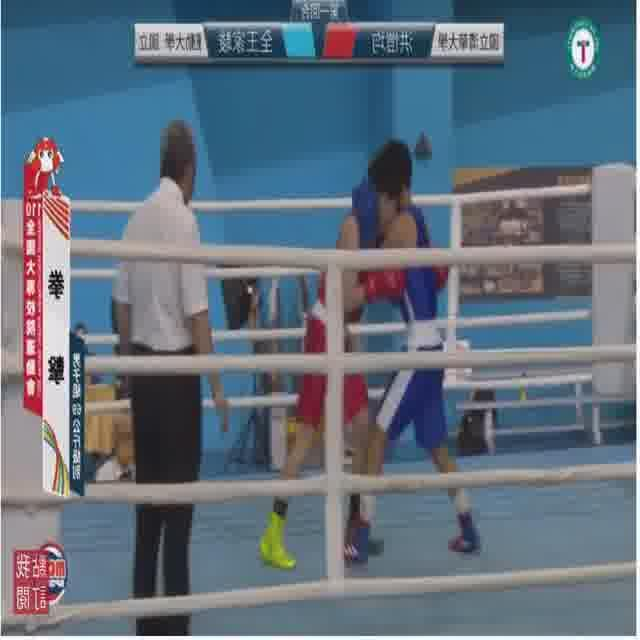blue-player: (342, 135, 484, 565)
red-player: (257, 154, 449, 574)
referee: (110, 115, 232, 636)
